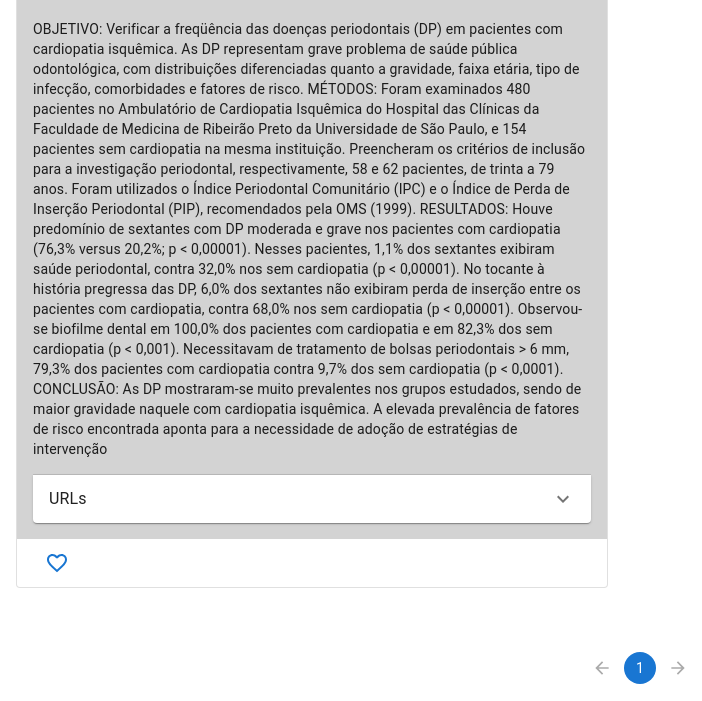
Test: should favorite an article
(page scrolled)
Expected: the icon with test id "FavoriteBorderIcon" is shown, x1=45 y1=551 x2=69 y2=575
Step 1. Click the button with test id "FavoriteBorderIcon" → (57,563), box x1=25 y1=547 x2=89 y2=579
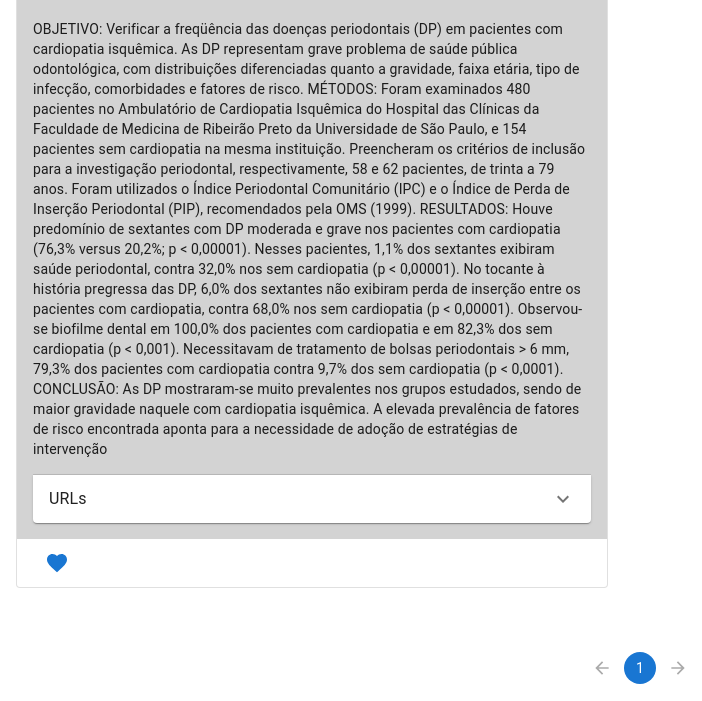
Result: the icon with test id "FavoriteIcon" is shown at x1=45 y1=551 x2=69 y2=575
